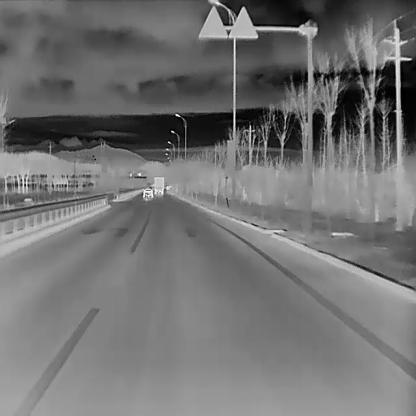car: (142, 186, 153, 198)
truck: (153, 176, 164, 194)
